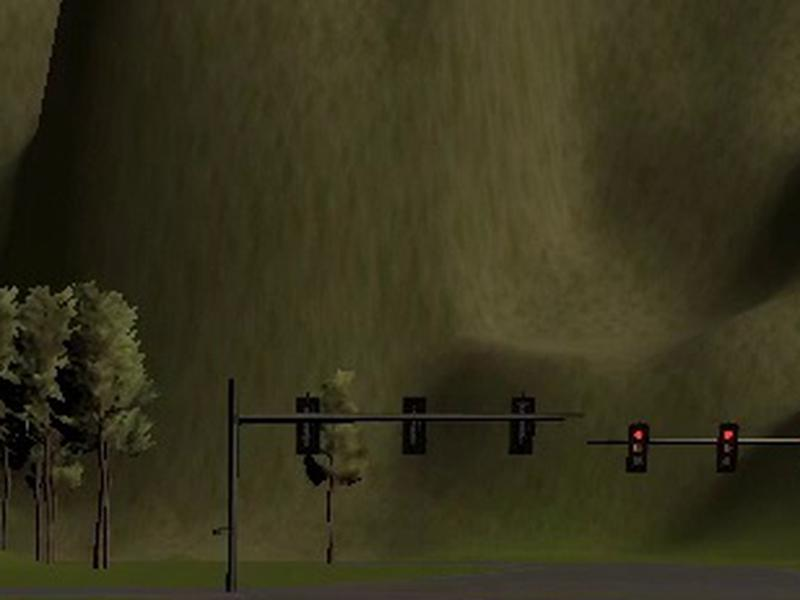Red: (626, 421, 652, 474), (716, 421, 740, 472)
